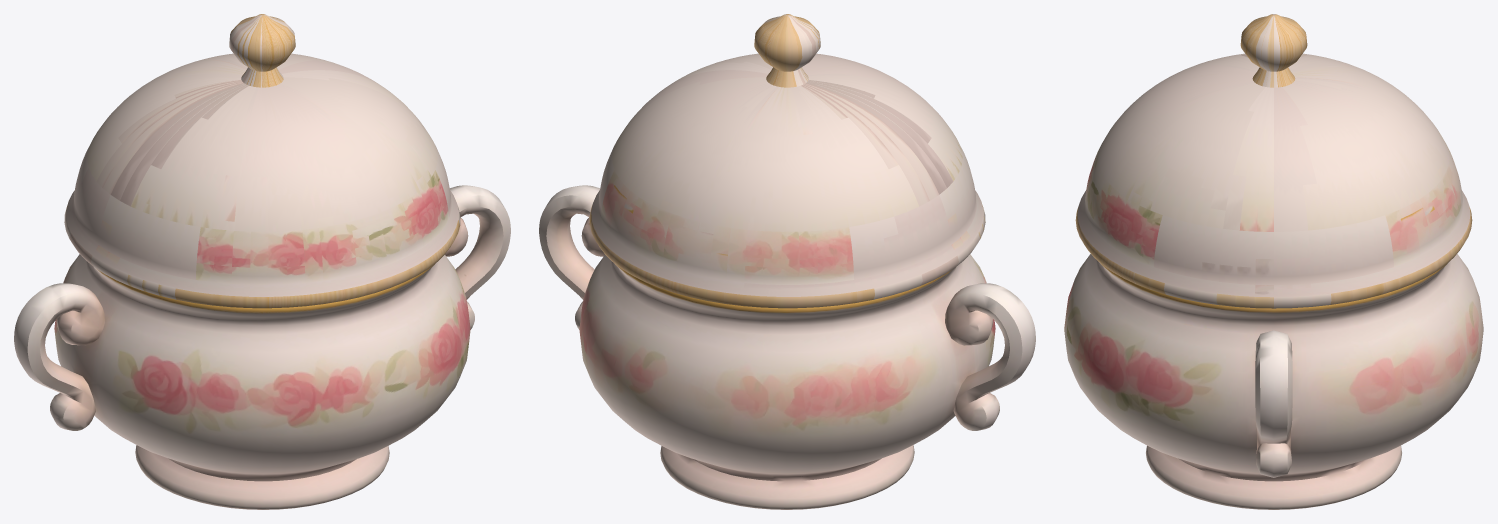
The model's file is sugar_bowl_lidded.glb.
The picture shows the model from 3 angles, left to right: view 1: azimuth 30°, elevation 25°; view 2: azimuth 150°, elevation 25°; view 3: azimuth 270°, elevation 25°; orthographic projection.
Visible parts, largest first — view 1: sugar_bowl; view 2: sugar_bowl; view 3: sugar_bowl.
Boxes of the visible parts, <box> form: sugar_bowl: <box>14,14,510,509</box>; sugar_bowl: <box>539,14,1035,509</box>; sugar_bowl: <box>1064,14,1483,509</box>.
Bounding box in the file's own units: 2.96 × 2.57 × 2.2.
Materials: 1 (1 with a texture image).
